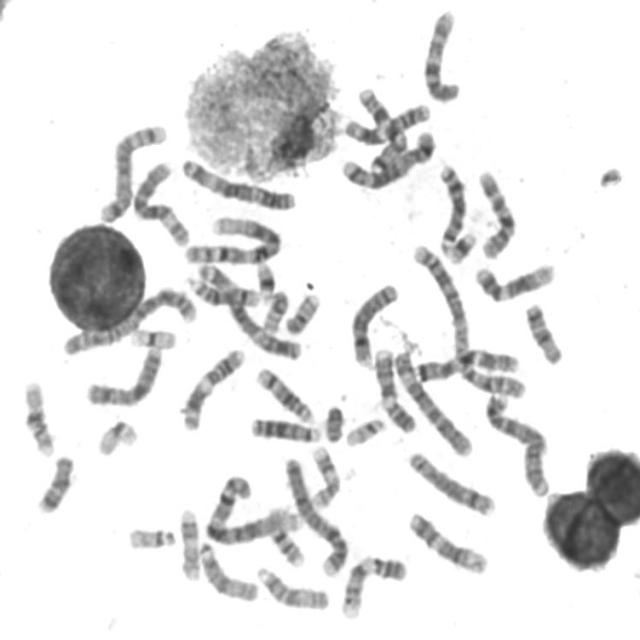A1: (202, 472, 305, 546), (179, 212, 284, 266)
A2: (408, 237, 526, 402), (58, 282, 198, 358)
A3: (191, 257, 302, 362), (175, 154, 298, 212)
B4: (279, 452, 350, 578), (482, 387, 552, 500)
B5: (94, 117, 170, 225), (336, 125, 438, 192)
C10: (418, 4, 463, 104), (473, 165, 519, 261)
C11: (177, 342, 247, 432), (340, 98, 432, 146)
C12: (403, 508, 490, 576), (471, 257, 556, 304)
C6: (388, 346, 474, 458), (128, 155, 192, 249)
C7: (353, 84, 408, 170), (411, 344, 522, 386)
C8: (403, 446, 498, 518), (346, 277, 401, 370)
C9: (336, 550, 410, 621), (370, 342, 418, 435)
D13: (434, 159, 468, 256), (246, 412, 323, 444)
D14: (252, 362, 316, 426), (182, 270, 262, 310)
D15: (193, 537, 260, 605), (252, 561, 332, 613)
E16: (18, 375, 56, 459), (262, 502, 308, 569)
E17: (305, 442, 343, 510), (175, 503, 202, 582)
E18: (521, 298, 565, 367), (31, 450, 76, 516)
F19: (92, 414, 140, 458), (125, 322, 178, 352)
F20: (280, 288, 322, 336), (258, 286, 290, 335)
G21: (443, 226, 479, 265), (251, 257, 278, 303)
G22: (341, 414, 388, 448), (123, 522, 178, 551)
X: (81, 341, 164, 408)
Y: (321, 402, 345, 444)
